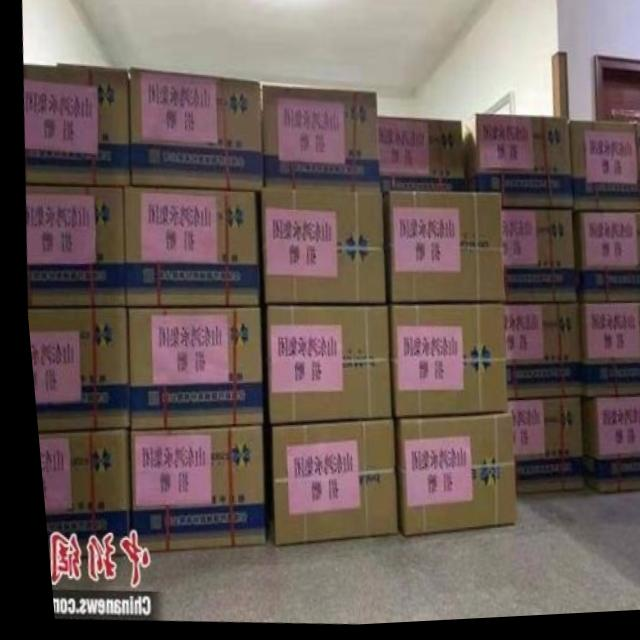box: (120, 426, 255, 554), (119, 185, 255, 309), (120, 306, 256, 429), (256, 422, 387, 548), (127, 69, 259, 193), (256, 305, 385, 427), (386, 418, 508, 540), (255, 189, 381, 306), (380, 195, 499, 309), (382, 307, 499, 422), (22, 64, 127, 189), (258, 87, 376, 194), (22, 307, 122, 431), (22, 184, 119, 307), (30, 429, 120, 559), (458, 119, 569, 214), (498, 308, 575, 405), (499, 402, 573, 497), (498, 212, 569, 309), (567, 125, 640, 218), (374, 119, 460, 197), (572, 401, 640, 499), (569, 217, 640, 308), (572, 308, 640, 402)
